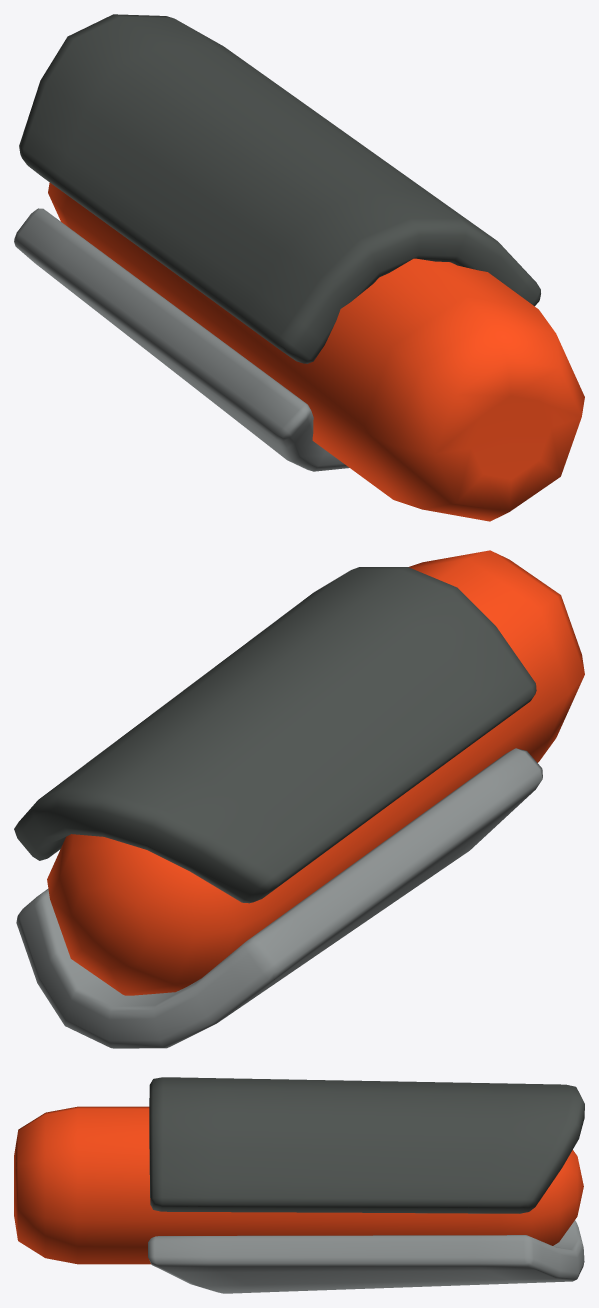
File: xsens_LeftThirdPP.dae
3 views of the same model, one above another, from view 1: azimuth 30°, elevation 25°; view 2: azimuth 150°, elevation 25°; view 3: azimuth 270°, elevation 25° (orthographic). The views are drawn at different scales.
Visible parts, largest first — view 1: LeftThirdPP; view 2: LeftThirdPP; view 3: LeftThirdPP.
Part boxes in pixels (<box>): LeftThirdPP: <box>14,14,584,521</box>; LeftThirdPP: <box>14,550,584,1048</box>; LeftThirdPP: <box>14,1077,584,1293</box>.
Size of the model in its own units: 0.0189 by 0.0497 by 0.0189.
